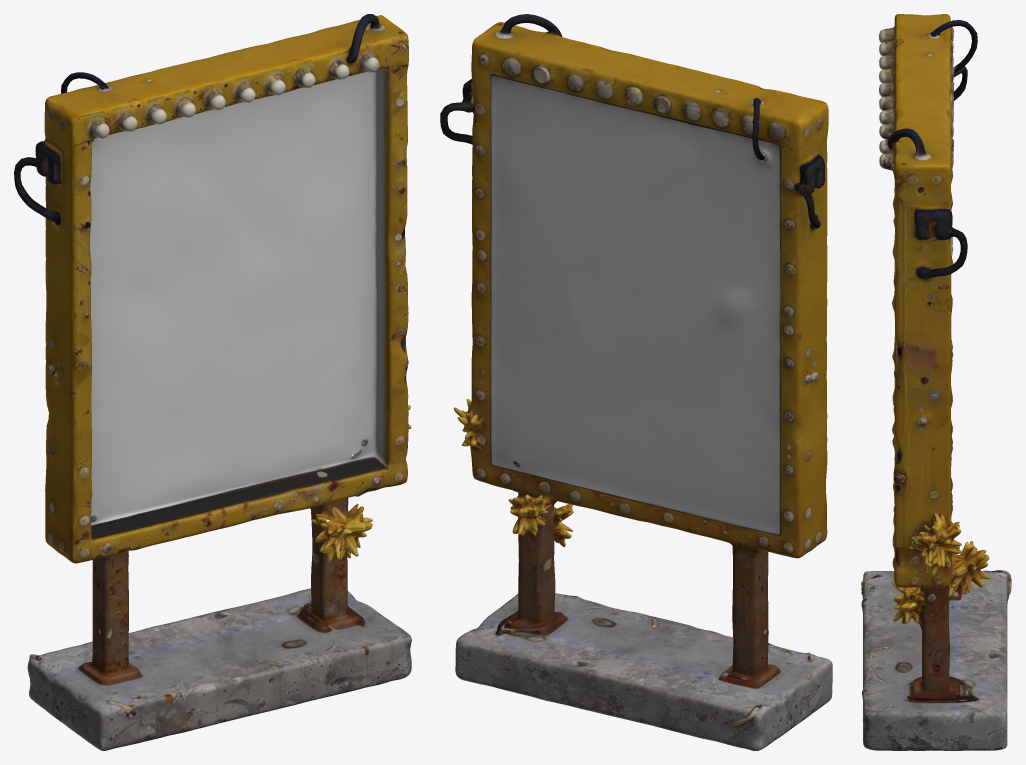
Rendered from g67_poster_stand.glb.
3 renders of one model, left to right at view 1: azimuth 30°, elevation 25°; view 2: azimuth 150°, elevation 25°; view 3: azimuth 270°, elevation 25°, orthographic. The views are drawn at different scales.
Visible parts, largest first — view 1: tripo_node_c8eca869; view 2: tripo_node_c8eca869; view 3: tripo_node_c8eca869.
Boxes of the visible parts, x1,y1,x2,y2 form: tripo_node_c8eca869: (14,14,411,750); tripo_node_c8eca869: (440,14,832,750); tripo_node_c8eca869: (861,14,1011,750).
Bounding box in the file's own units: 60.42 × 97.82 × 21.86.
1 material, 1 textured.
